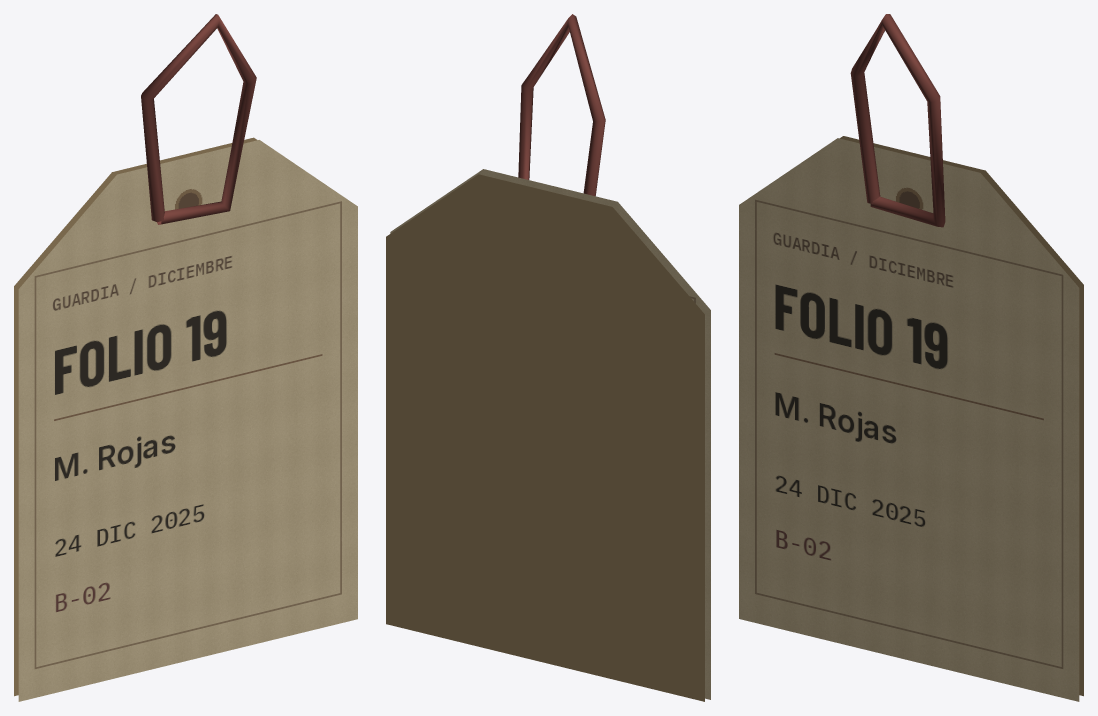
The model's file is tag-19.glb.
3 views of the same model, side by side, from view 1: azimuth 30°, elevation 25°; view 2: azimuth 150°, elevation 25°; view 3: azimuth 330°, elevation 25° (orthographic). The views are drawn at different scales.
Visible parts, largest first — view 1: TAG_FACE_19, TAG_THREAD_19, TAG_BACK_19; view 2: TAG_BACK_19, TAG_FACE_19, TAG_THREAD_19; view 3: TAG_FACE_19, TAG_THREAD_19, TAG_BACK_19.
Boxes of the visible parts, x1,y1,x2,y2 form: TAG_FACE_19: [18, 140, 357, 701]; TAG_THREAD_19: [141, 14, 256, 224]; TAG_BACK_19: [14, 137, 257, 696]; TAG_BACK_19: [386, 174, 704, 701]; TAG_FACE_19: [390, 169, 710, 699]; TAG_THREAD_19: [518, 14, 605, 196]; TAG_FACE_19: [739, 138, 1079, 701]; TAG_THREAD_19: [850, 14, 945, 227]; TAG_BACK_19: [840, 136, 1083, 696].
Bounding box in the file's own units: 0.22 × 0.4119 × 0.0387.
Materials: 3 (1 with a texture image).
